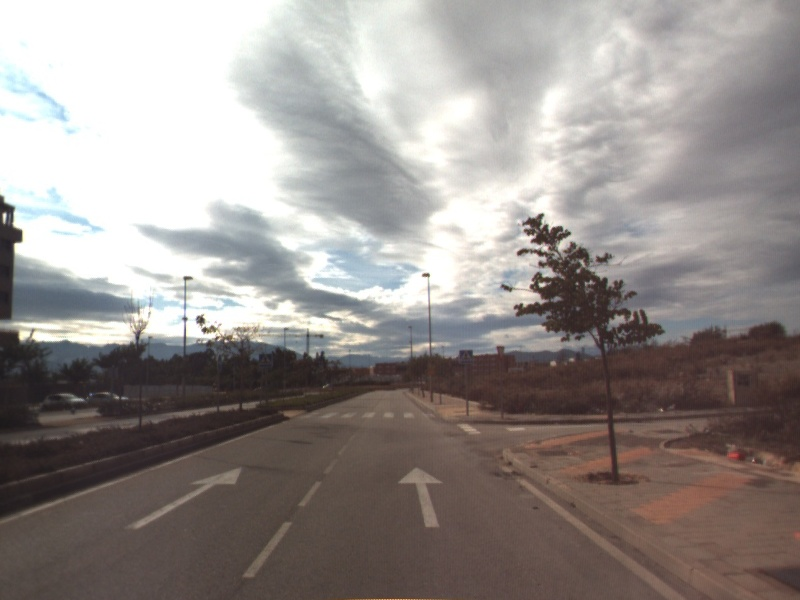STRAIGHT: (122, 464, 244, 532), (396, 464, 446, 530)
